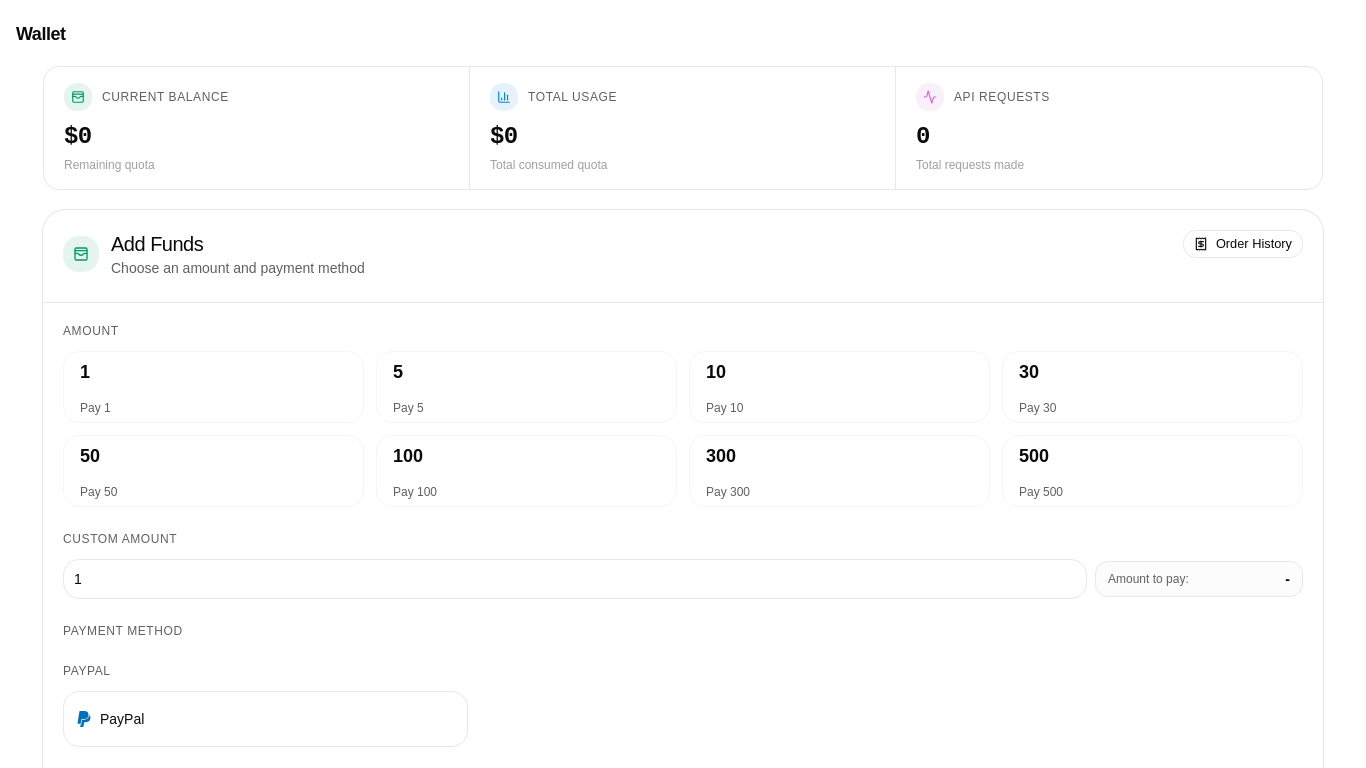
Test case: Wallet first top-up bonus data source (real UI) › shows no bonus anywhere when the user is not eligible
Step 1. Click the button "PayPal" → (122, 719), box [63,691,468,747]
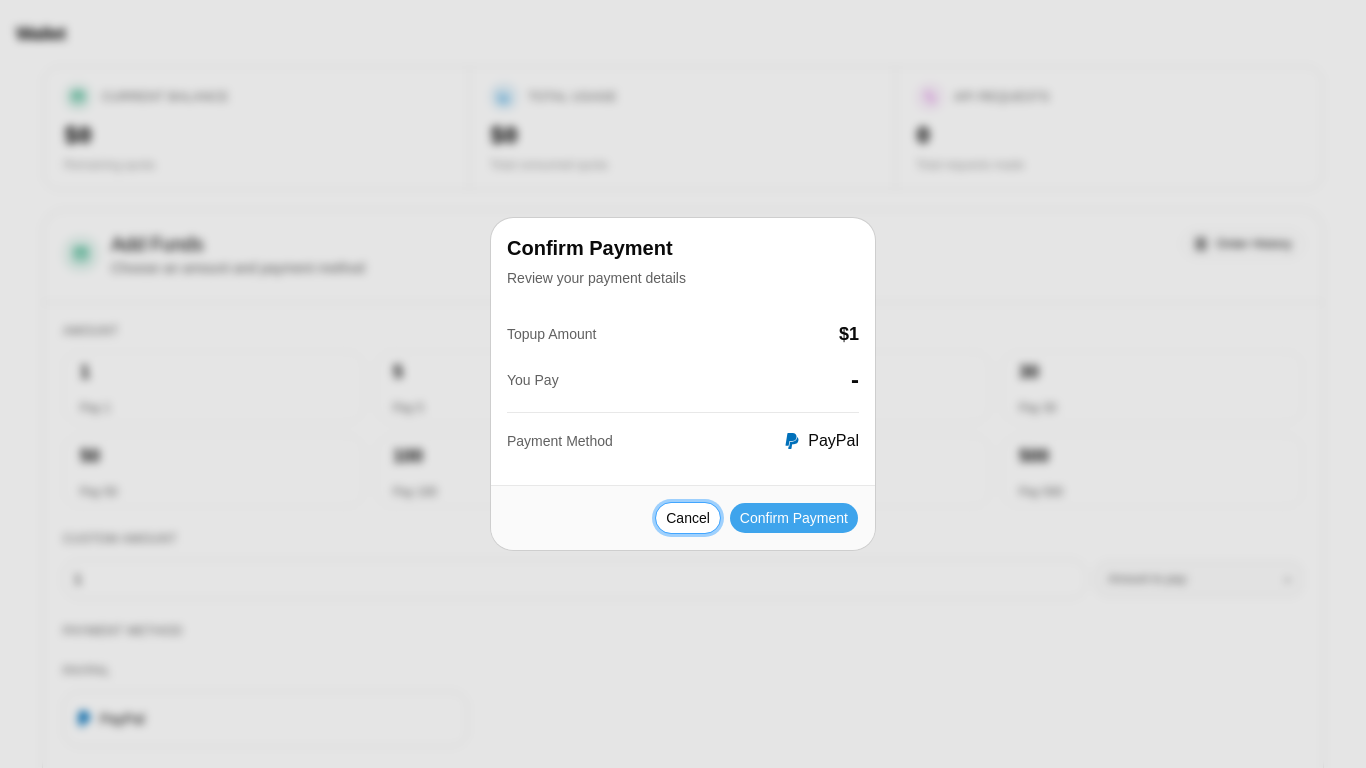
Result: the heading "Confirm Payment" is shown at [507,234,673,262]
Result: the text "You Pay" is shown at [507,370,559,390]
